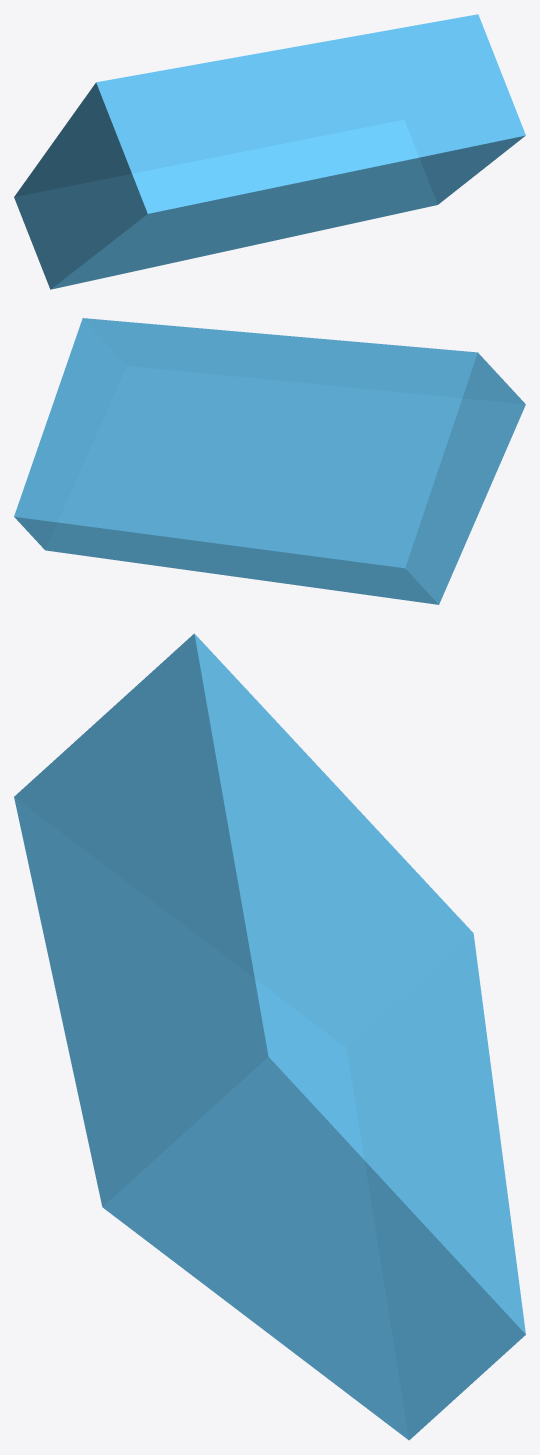
File: Event_421364160_HErechit_59.fbx
The picture shows the model from 3 angles, top to bottom: view 1: azimuth 30°, elevation 25°; view 2: azimuth 150°, elevation 25°; view 3: azimuth 270°, elevation 25°; orthographic projection. The views are drawn at different scales.
Parts seen in each view (by area): view 1: Model; view 2: Model; view 3: Model.
Part boxes in pixels (x1,y1,x2,y2): Model: [14, 14, 525, 289]; Model: [14, 318, 525, 604]; Model: [14, 633, 525, 1440].
Size of the model in its own units: 0.9525 by 0.5975 by 0.5975.
